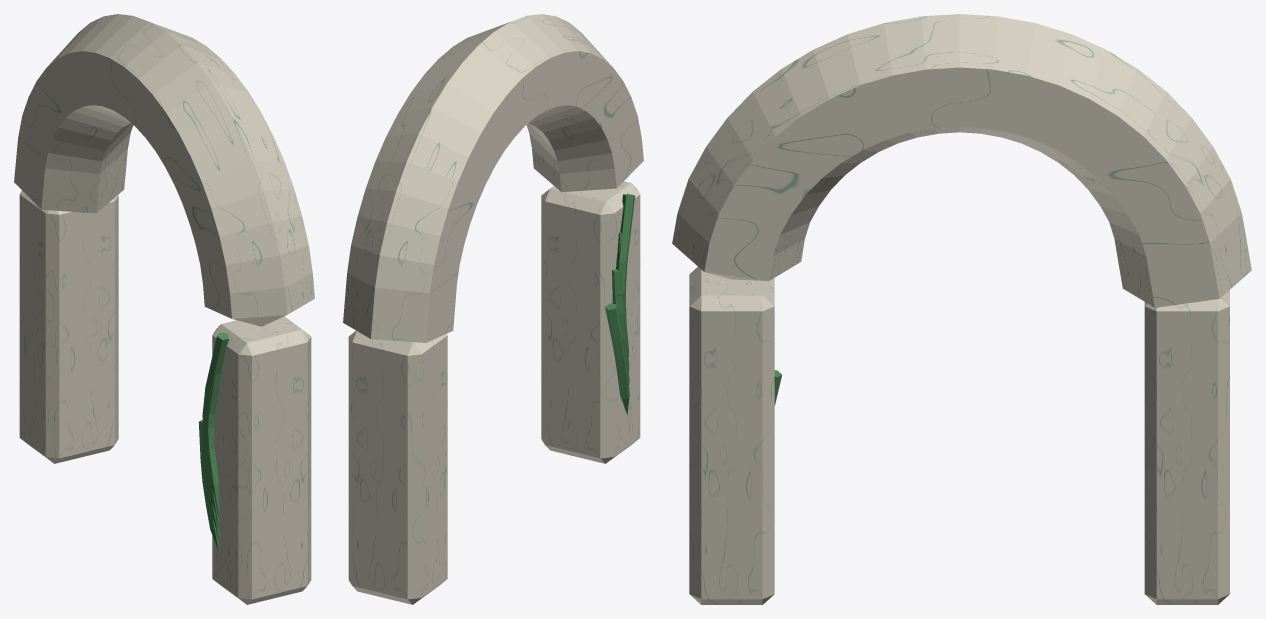
Rendered from Archway.glb.
3 views of the same model, side by side, from view 1: azimuth 30°, elevation 25°; view 2: azimuth 150°, elevation 25°; view 3: azimuth 270°, elevation 25° (orthographic). The views are drawn at different scales.
Visible parts, largest first — view 1: Archway; view 2: Archway; view 3: Archway.
Part boxes in pixels (box(x1,y1,x2,y2)): Archway: box(14, 14, 314, 604); Archway: box(343, 14, 643, 604); Archway: box(672, 14, 1251, 604).
Size of the model in its own units: 0.8431 by 4.46 by 4.07.
Materials: 1 (1 with a texture image).
